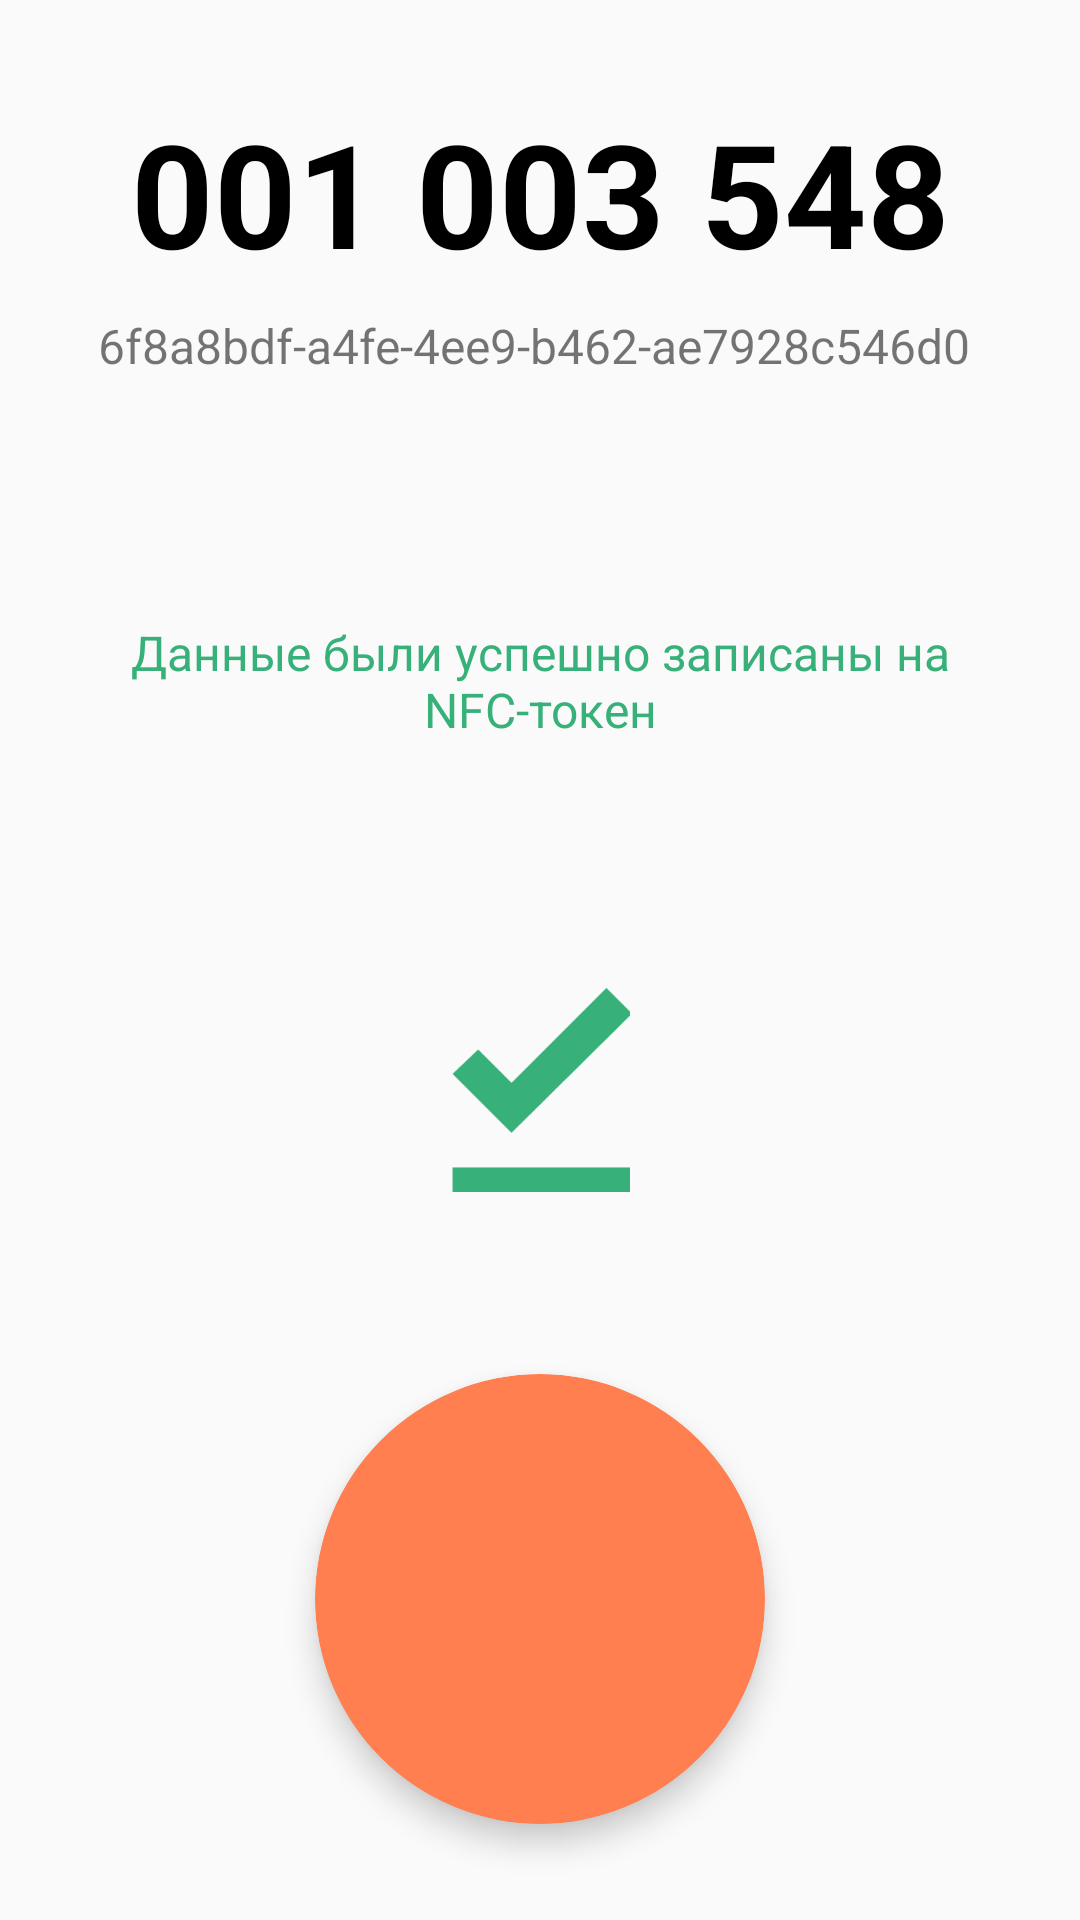

Screen size 1080x1920. Icon name, then its center in pixels as (x,y):
congratulation: (541,1090)
